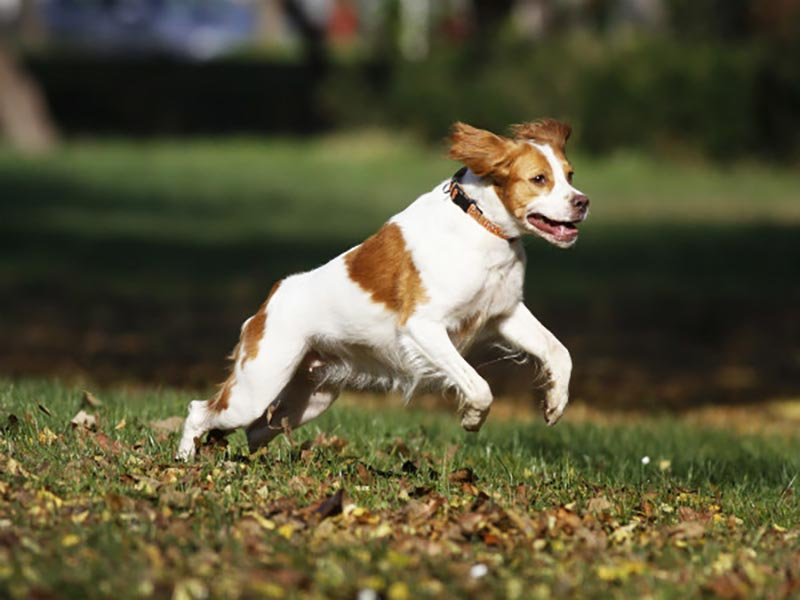cane da caccia: (184, 110, 590, 495)
